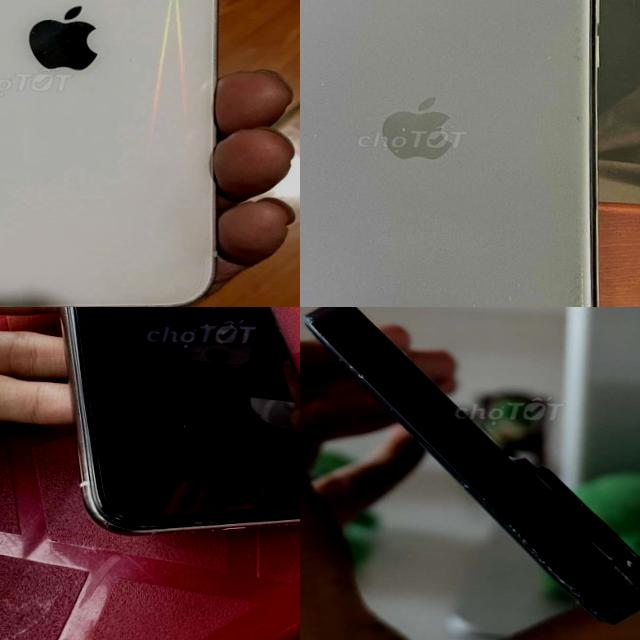gen_11: (300, 0, 608, 307)
gen_12_13: (0, 0, 255, 307)
gen_14: (300, 307, 640, 636)
gen_x_xs: (61, 307, 300, 533)
scratch: (479, 516, 640, 633), (300, 307, 364, 380), (386, 339, 450, 392), (94, 512, 120, 538), (189, 518, 212, 528)
